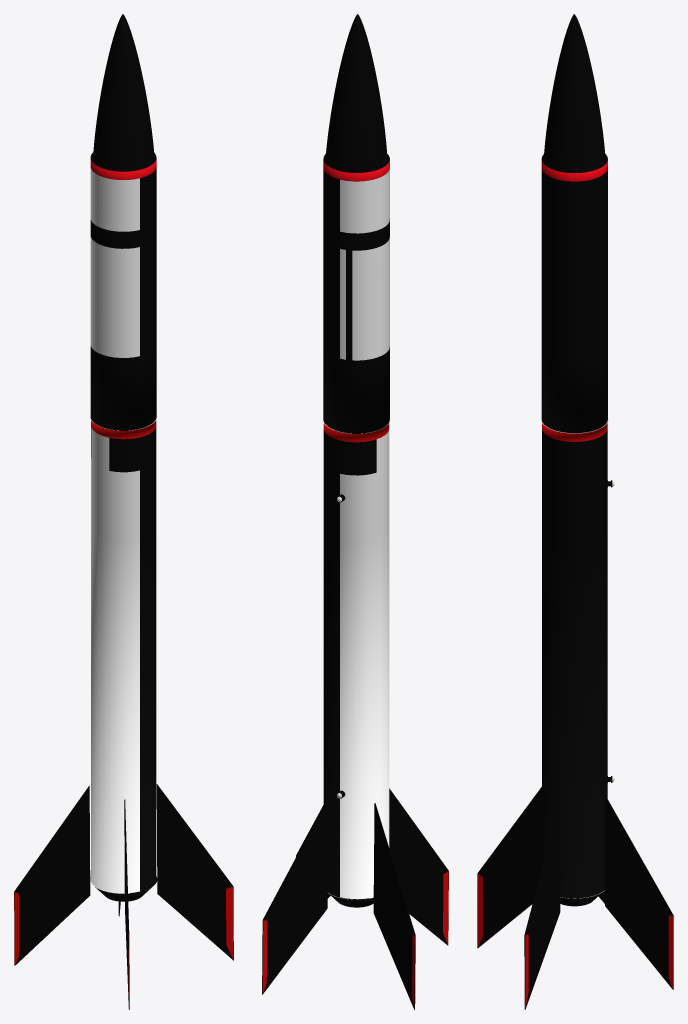
File: black_hawk.glb
The picture shows the model from 3 angles, left to right: view 1: azimuth 30°, elevation 25°; view 2: azimuth 150°, elevation 25°; view 3: azimuth 270°, elevation 25°; orthographic projection.
Visible parts, largest first — view 1: Main Body, Second stage, Nose Cone; view 2: Main Body, Second stage, Nose Cone; view 3: Main Body, Second stage, Nose Cone.
Boxes of the visible parts, left/top/right/bottom form: Main Body: left=14, top=414, right=233, bottom=1009; Second stage: left=90, top=152, right=156, bottom=430; Nose Cone: left=93, top=14, right=154, bottom=171; Main Body: left=262, top=417, right=448, bottom=1009; Second stage: left=323, top=154, right=389, bottom=433; Nose Cone: left=325, top=14, right=387, bottom=172; Main Body: left=477, top=417, right=673, bottom=1009; Second stage: left=541, top=154, right=607, bottom=433; Nose Cone: left=543, top=14, right=605, bottom=172.
Bounding box in the file's own units: 2.89 × 15.49 × 2.89.
